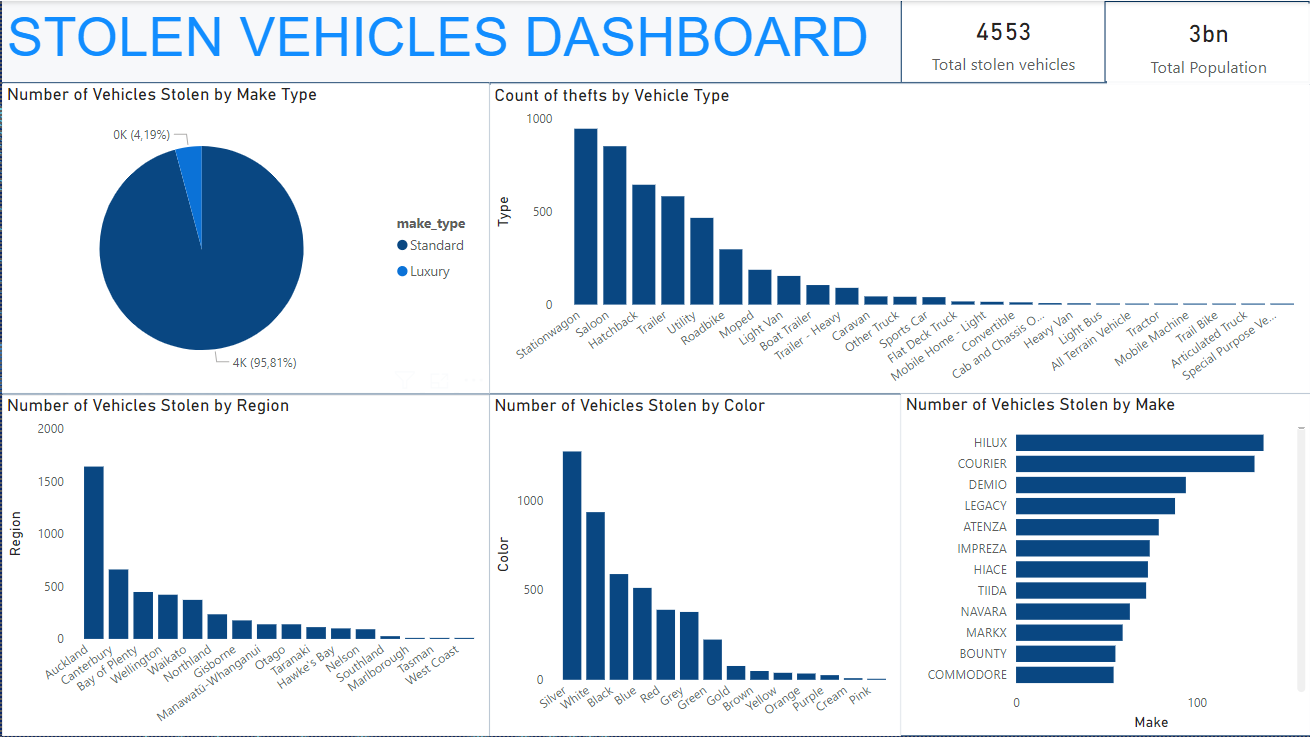

The page's visual inventory and layout, read from the dashboard file:
{"tool":"powerbi","page":{"name":"Page 1","canvas":[1280,720],"ordinal":0},"visuals":[{"type":"textbox","box":[0,0,1279.1,80.7],"z":0},{"type":"shape","box":[0,79.5,476.9,304.5],"z":1000},{"type":"shape","box":[476.9,79.5,803.4,304.5],"z":2000},{"type":"shape","box":[0,384,476.9,336.3],"z":3000},{"type":"clusteredColumnChart","title":"Number of Vehicles Stolen by Region","fields":{"Y":["Measure calculations.Region theft count"],"Category":["Stolen_vehicled_Merged.region"]},"box":[0,385.2,476.9,335.1],"z":4000},{"type":"clusteredColumnChart","title":"Count of thefts by Vehicle Type","fields":{"Category":["Stolen_vehicled_Merged.vehicle_type"],"Y":["Measures (2).vehicle type theft"]},"box":[476.9,81.9,803.4,303.3],"z":5000},{"type":"pieChart","title":"Number of Vehicles Stolen by Make Type","fields":{"Y":["Measure calculations.vehicle make type"],"Category":["Stolen_vehicled_Merged.make_type"]},"box":[0,80.7,476.9,303.3],"z":6000},{"type":"shape","box":[476.9,384,402.3,336.3],"z":7000},{"type":"shape","box":[879.2,384,401.1,336.3],"z":8000},{"type":"clusteredColumnChart","title":"Number of Vehicles Stolen by Color","fields":{"Y":["Measure calculations.Thefts_by_color"],"Category":["Stolen_vehicled_Merged.color"]},"box":[476.9,385.2,402.3,335.1],"z":9000},{"type":"barChart","title":"Number of Vehicles Stolen by Make","fields":{"Category":["Stolen_vehicled_Merged.vehicle_desc"],"Y":["Measure calculations.vehicle make"]},"box":[879.2,384,401.1,335.1],"z":10000},{"type":"shape","box":[879.2,0,200.5,79.5],"z":11000},{"type":"card","fields":{"Values":["Measure calculations.Total stolen vehicles"]},"box":[880.4,0,199.3,79.5],"z":12000},{"type":"shape","box":[1078.5,0,200.5,79.5],"z":13000},{"type":"card","fields":{"Values":["Measure calculations.Total Population"]},"box":[1081,2.4,199.3,79.5],"z":14000}]}

Visuals, with their boxes in screenshot pixels (x1, y1, x2, y2), scaled from the page's 1280x720 canvas onto the 1310x737 screenshot:
textbox: Rect(0, 0, 1309, 83)
shape: Rect(0, 81, 488, 393)
shape: Rect(488, 81, 1309, 393)
shape: Rect(0, 393, 488, 736)
"Number of Vehicles Stolen by Region" clusteredColumnChart: Rect(0, 394, 488, 736)
"Count of thefts by Vehicle Type" clusteredColumnChart: Rect(488, 84, 1309, 394)
"Number of Vehicles Stolen by Make Type" pieChart: Rect(0, 83, 488, 393)
shape: Rect(488, 393, 900, 736)
shape: Rect(900, 393, 1309, 736)
"Number of Vehicles Stolen by Color" clusteredColumnChart: Rect(488, 394, 900, 736)
"Number of Vehicles Stolen by Make" barChart: Rect(900, 393, 1309, 736)
shape: Rect(900, 0, 1105, 81)
card - Measure calculations.Total stolen vehicles: Rect(901, 0, 1105, 81)
shape: Rect(1104, 0, 1309, 81)
card - Measure calculations.Total Population: Rect(1106, 2, 1309, 84)
